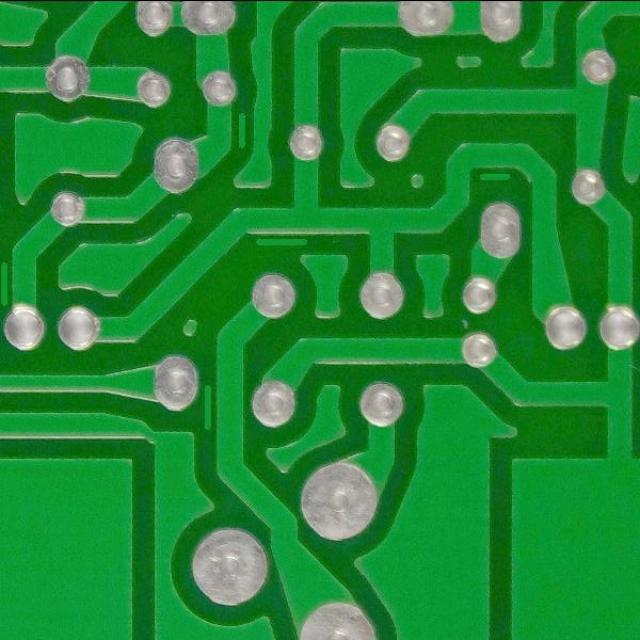Spurious_Cooper: (252, 234, 312, 252), (198, 379, 216, 434), (233, 108, 250, 151), (0, 257, 13, 312), (475, 170, 516, 184)
